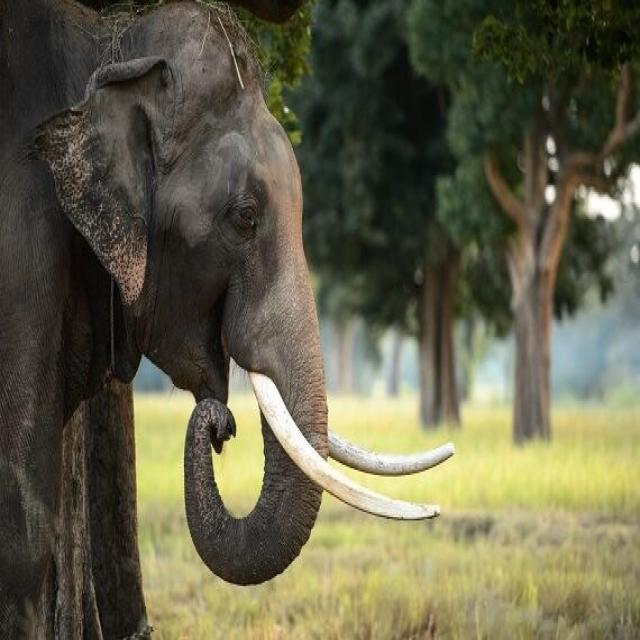Elephant: (2, 0, 456, 640)
